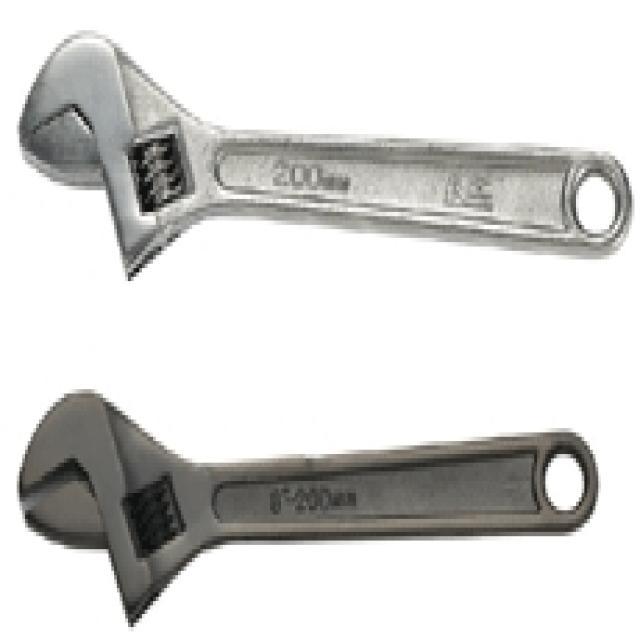wrench: (20, 17, 640, 312), (1, 360, 640, 640)
